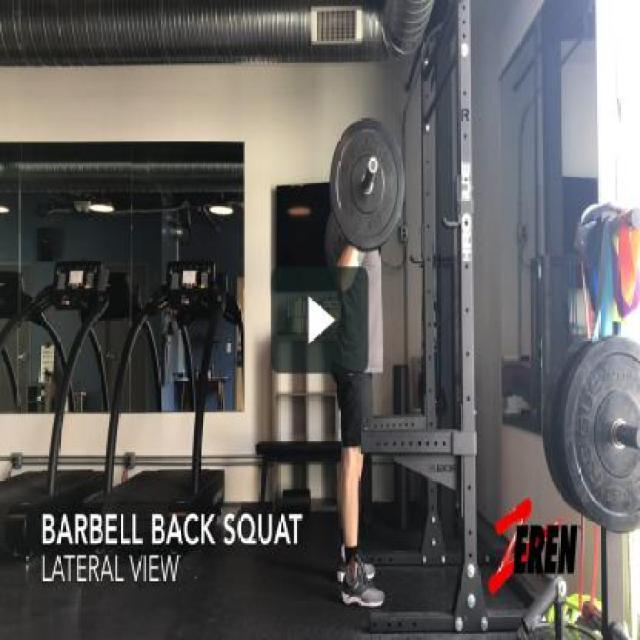barbell: (327, 110, 409, 258)
